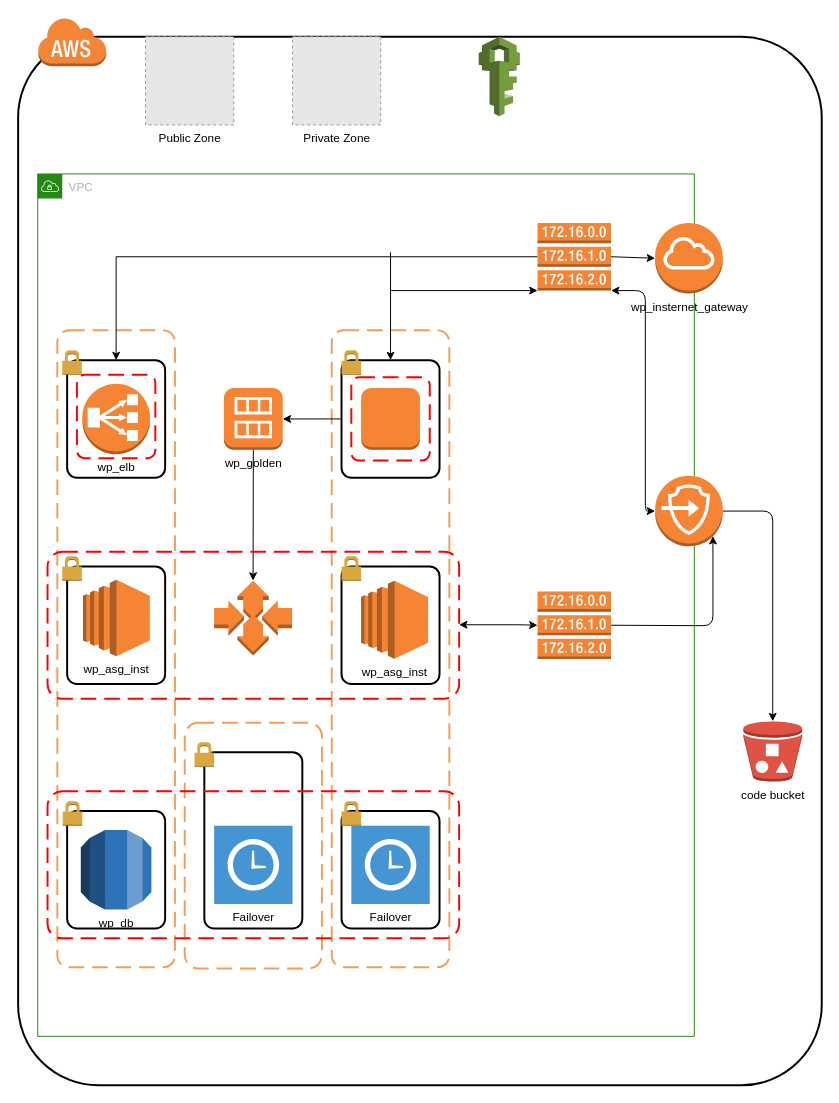
Image size: 839x1103. Some labels were removed from this diagram. Grey dashed boxes stand in for pictures. Each missing label, with the centre of its shape:
"IAM Admin Privileges EC2 Role with S3 Access" goes at [499,76].
"wp_asg" goes at [252,618].
"wp_dev" goes at [390,418].
"wp_privat_rt" goes at [574,624].
"wp_private_s3_endpoint" goes at [688,510].
"wp_public_rt" goes at [574,256].
